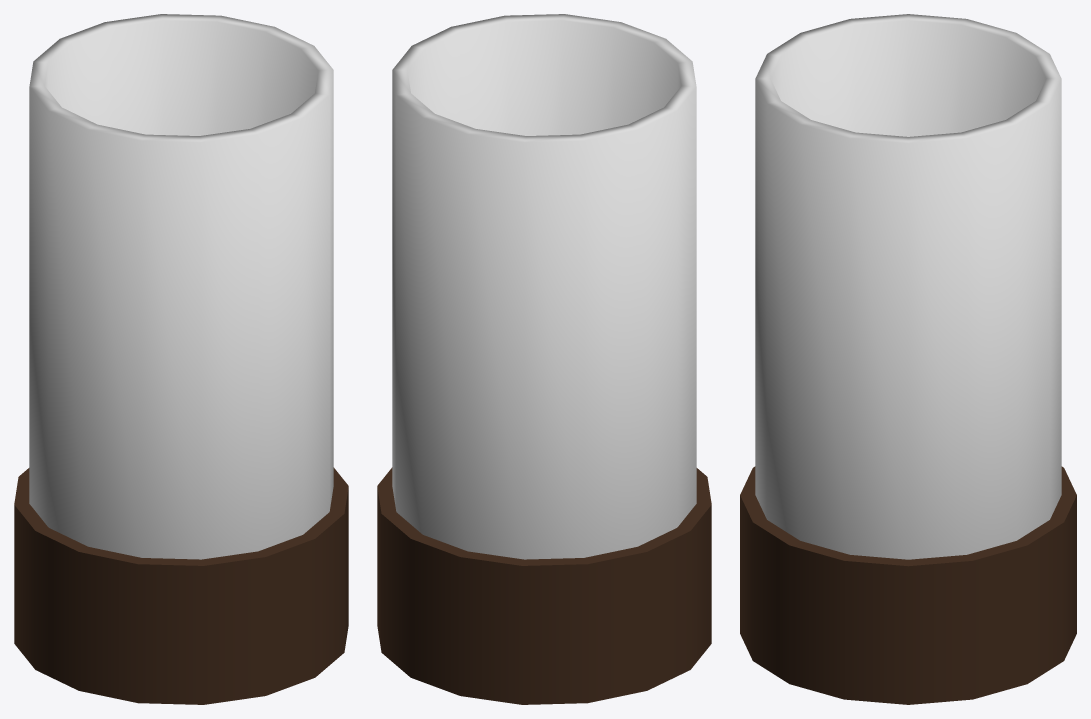
Rendered from glass-cylinder-pot-plant.glb.
3 renders of one model, left to right at view 1: azimuth 30°, elevation 25°; view 2: azimuth 150°, elevation 25°; view 3: azimuth 270°, elevation 25°, orthographic.
Visible parts, largest first — view 1: Glass_baked, Base; view 2: Glass_baked, Base; view 3: Glass_baked, Base.
Boxes of the visible parts, <box> form: Glass_baked: <box>29,14,333,559</box>; Base: <box>14,467,348,704</box>; Glass_baked: <box>392,14,696,559</box>; Base: <box>377,467,711,704</box>; Glass_baked: <box>755,14,1061,559</box>; Base: <box>740,466,1076,704</box>.
Size of the model in its own units: 0.11 by 0.2 by 0.11.
